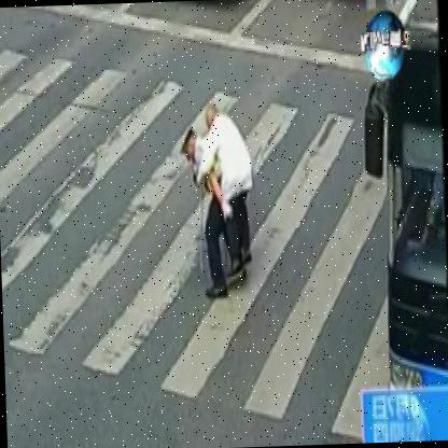silver: (198, 103, 258, 286)
